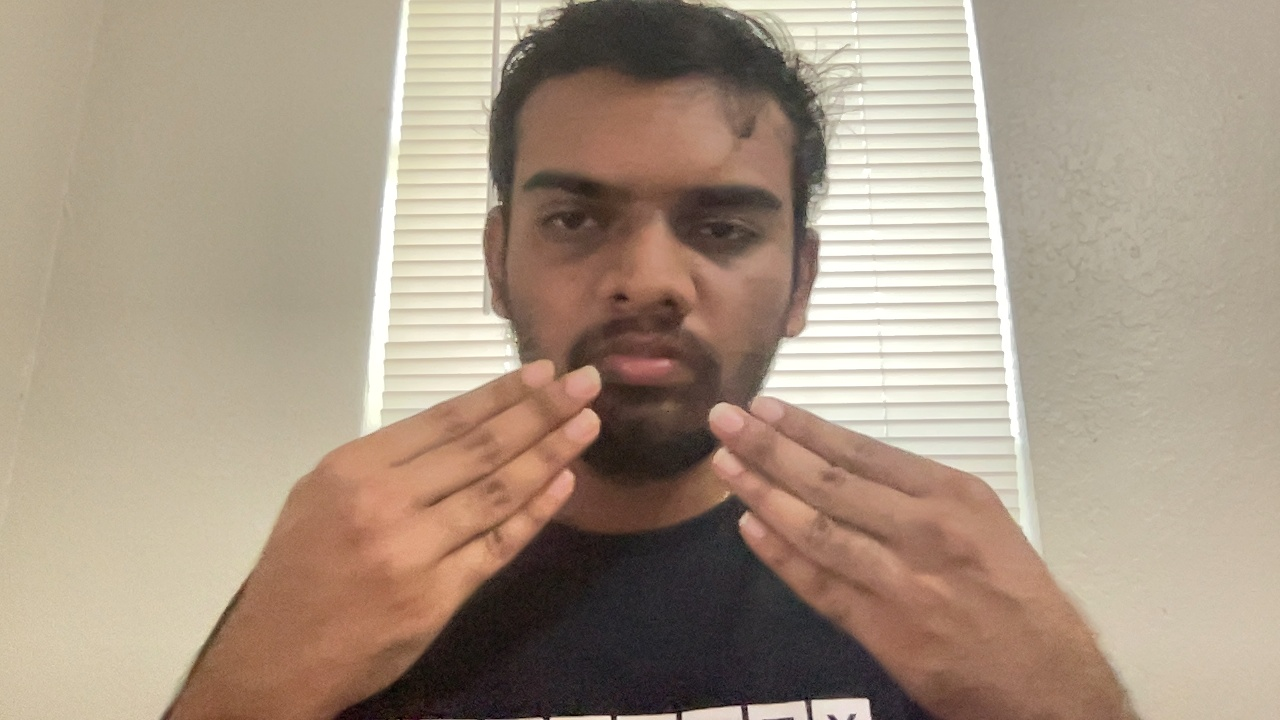thanks: (243, 368, 1103, 696)
